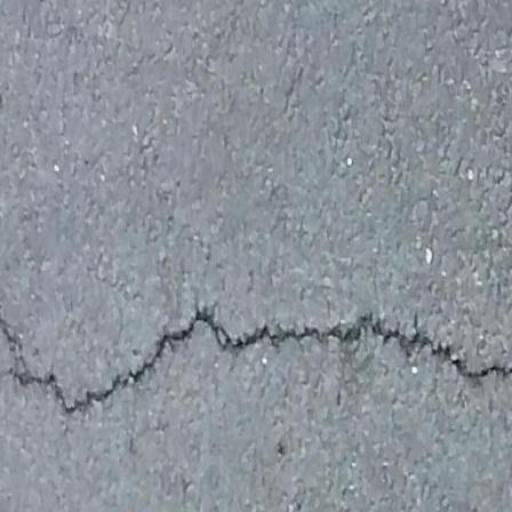spalling: (1, 300, 509, 428)
